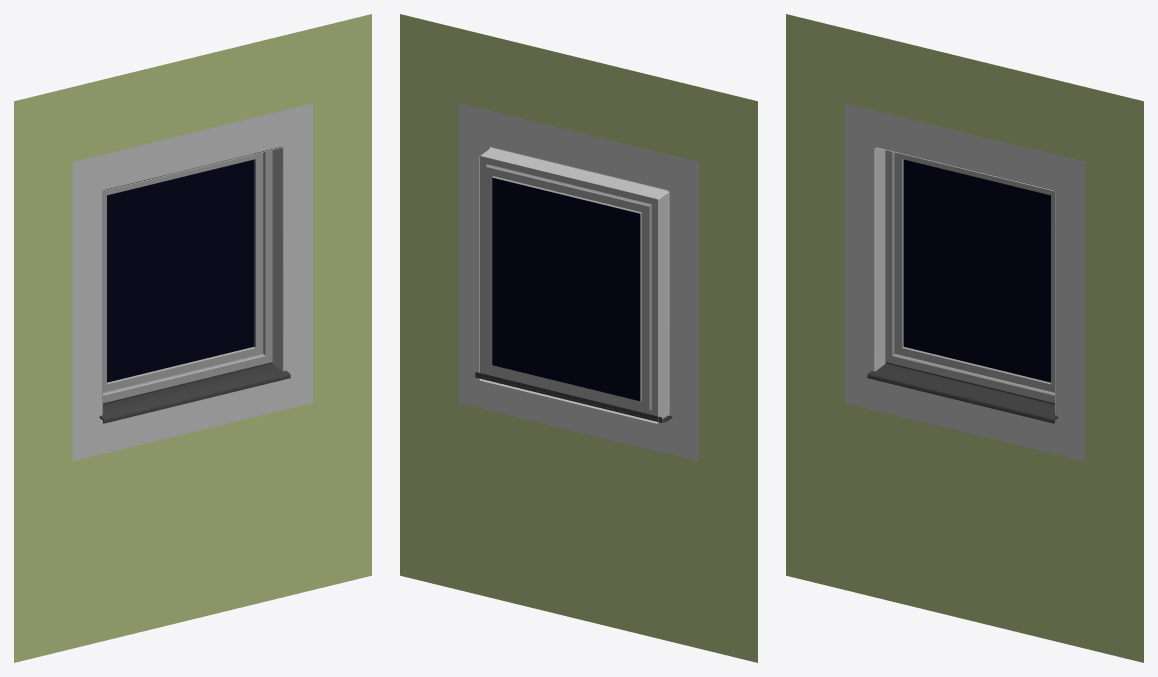
File: Residential_Window2x3.obj
3 views of the same model, side by side, from view 1: azimuth 30°, elevation 25°; view 2: azimuth 150°, elevation 25°; view 3: azimuth 330°, elevation 25° (orthographic).
Visible parts, largest first — view 1: Wall_Window01_2.0x3.0; view 2: Wall_Window01_2.0x3.0; view 3: Wall_Window01_2.0x3.0.
Part boxes in pixels (x1=…): Wall_Window01_2.0x3.0: x1=14, y1=14, x2=371, y2=662; Wall_Window01_2.0x3.0: x1=400, y1=14, x2=757, y2=662; Wall_Window01_2.0x3.0: x1=786, y1=14, x2=1143, y2=662.
Size of the model in its own units: 2 by 3 by 0.1624.
